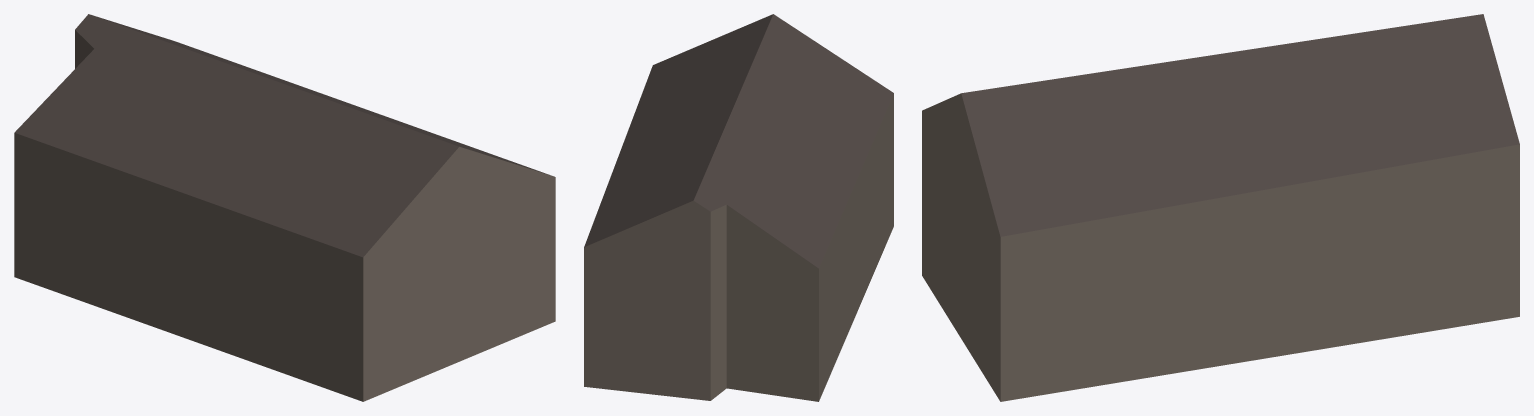
3 renders of one model, left to right at view 1: azimuth 30°, elevation 25°; view 2: azimuth 150°, elevation 25°; view 3: azimuth 270°, elevation 25°, orthographic. The views are drawn at different scales.
Parts seen in each view (by area): view 1: HP-w1516161939; view 2: HP-w1516161939; view 3: HP-w1516161939.
Part boxes in pixels (x1,y1,x2,y2): HP-w1516161939: (14, 14, 555, 401); HP-w1516161939: (584, 14, 893, 401); HP-w1516161939: (922, 14, 1519, 401).
Size of the model in its own units: 23.5 by 13.39 by 29.56.
